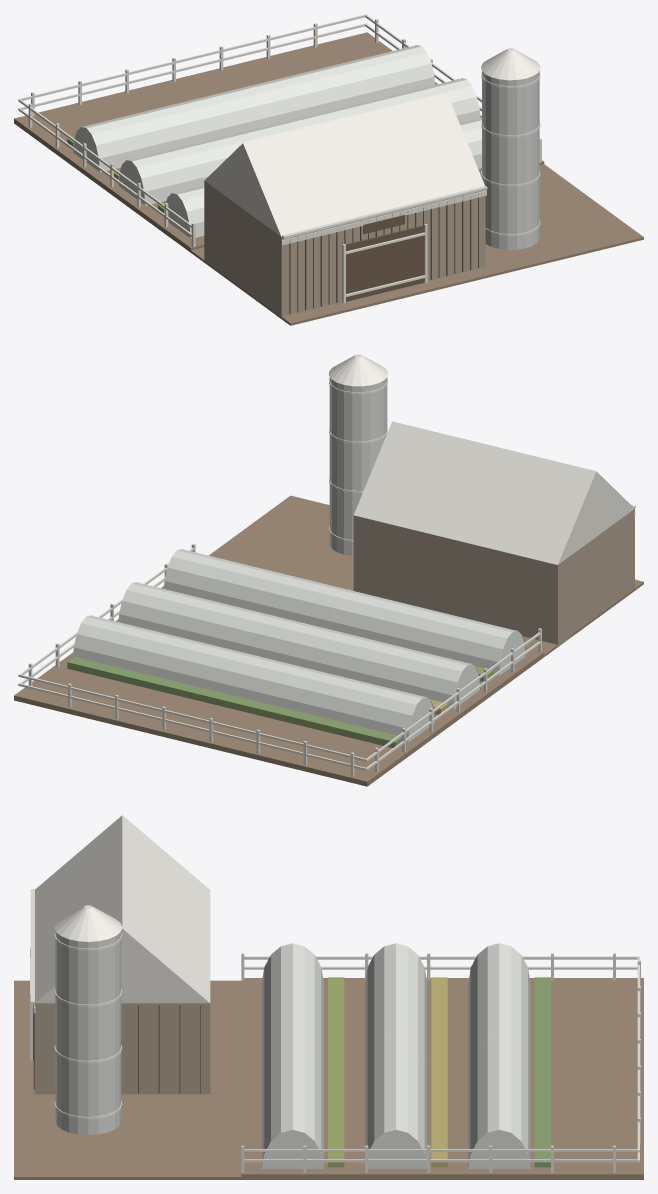
The model's file is farm_3x4_c.glb.
3 renders of one model, top to bottom at view 1: azimuth 30°, elevation 25°; view 2: azimuth 150°, elevation 25°; view 3: azimuth 270°, elevation 25°, orthographic. The views are drawn at different scales.
Parts seen in each view (by area): view 1: farm_3x4_c_yard; view 2: farm_3x4_c_yard; view 3: farm_3x4_c_yard.
Boxes of the visible parts, left/top/right/bottom form: farm_3x4_c_yard: left=14, top=14, right=643, bottom=325; farm_3x4_c_yard: left=14, top=354, right=643, bottom=786; farm_3x4_c_yard: left=14, top=815, right=643, bottom=1179.
Bounding box in the file's own units: 22.5 × 11.6 × 30.5.
